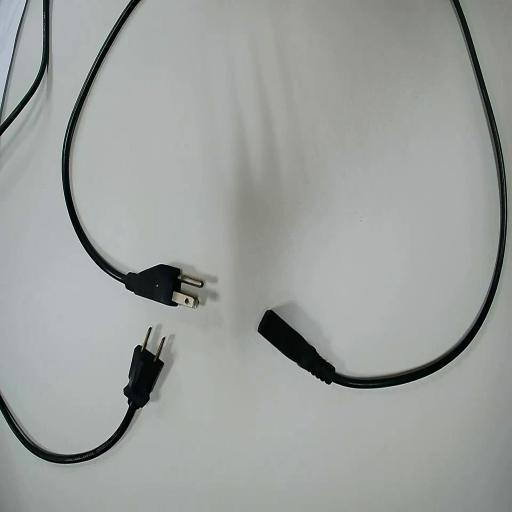wire: (259, 0, 505, 387), (63, 0, 185, 305), (0, 346, 162, 462)
